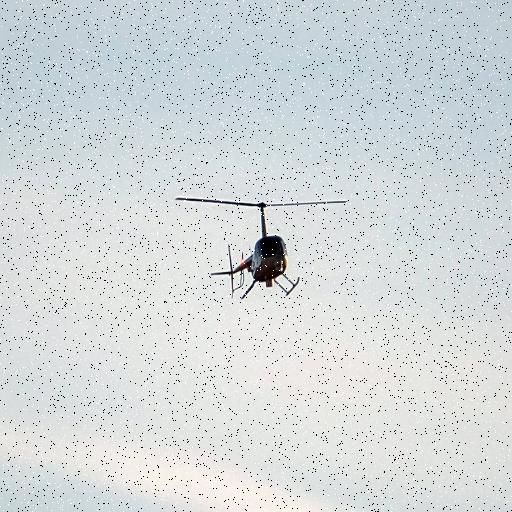helicopter: (172, 190, 351, 306)
